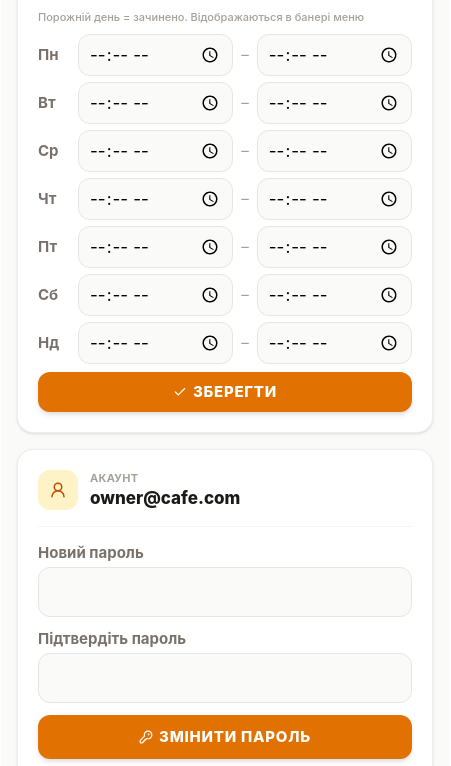
Scenario: AdminProfile — change password › shows an error when passwords do not match
(page scrolled)
Type "password-123" into the password field labelled "Новий пароль".
click(225, 592); type("password-123")  # box [38,567,412,617]
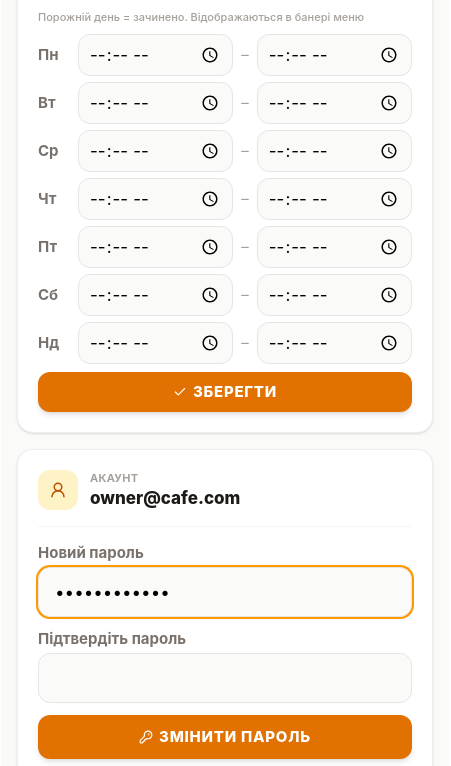
Type "different-456" into the password field labelled "Підтвердіть пароль".
click(225, 678); type("different-456")  # box [38,653,412,703]
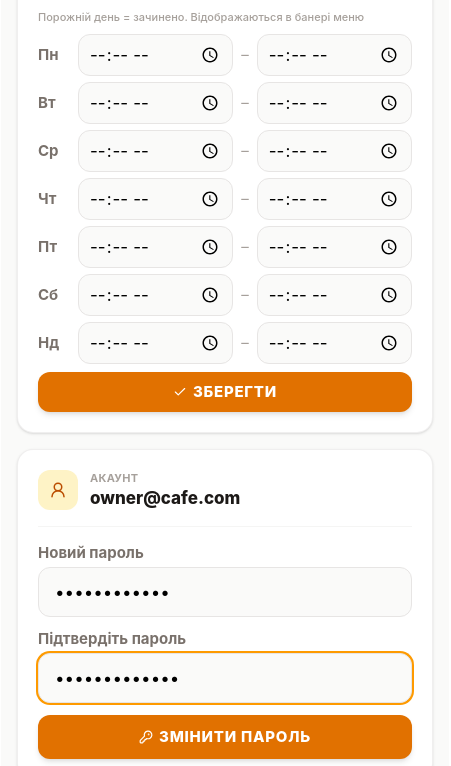
Click the button "Змінити пароль".
click(225, 737)  # box [38,715,412,759]
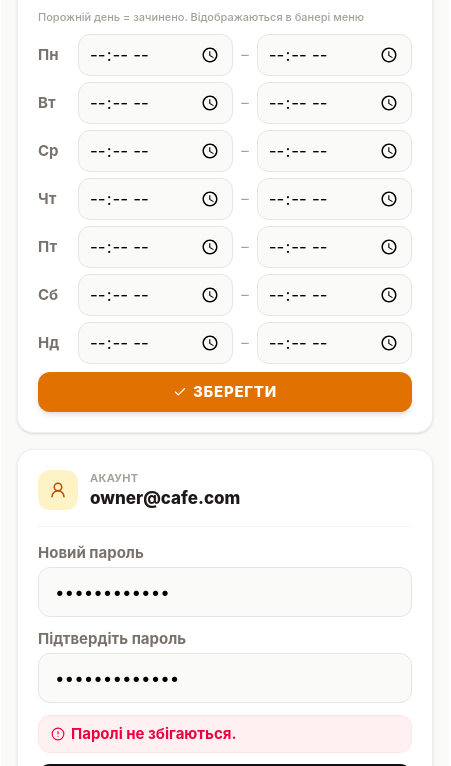
Expected: the text "Паролі не збігаються." is shown, [71,724,236,744]
